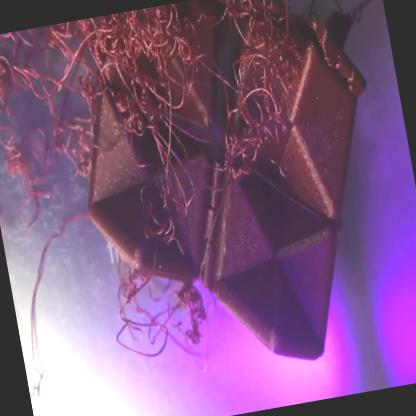fail: (1, 1, 297, 190)
